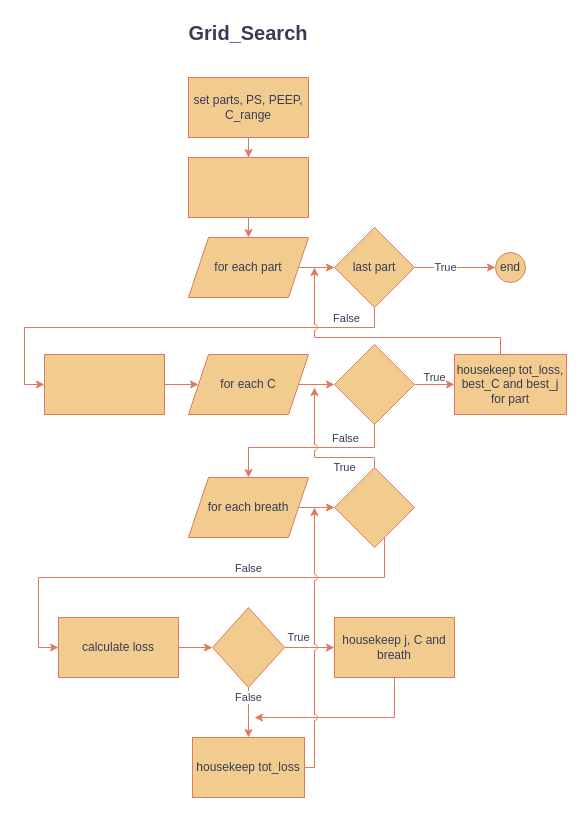
The diagram is 584 pixels wide and 815 high, and some of its shapes have lost their labels. Here are the shapes that lost their labels. From the top down, the box of each, then its label:
(188, 156, 308, 218): define hk_dicts
(44, 354, 164, 414): reset housekeeping
(334, 344, 414, 424): last C
(334, 466, 414, 548): last breath
(212, 606, 284, 688): if j < j_best
